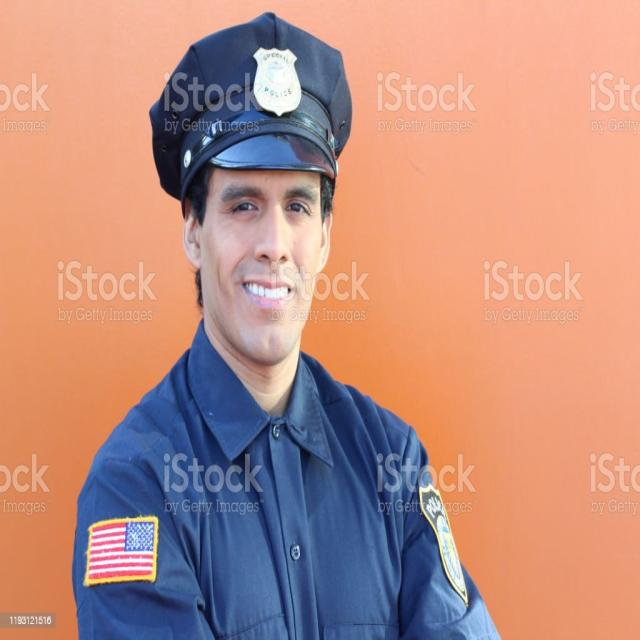police: (91, 12, 465, 640)
